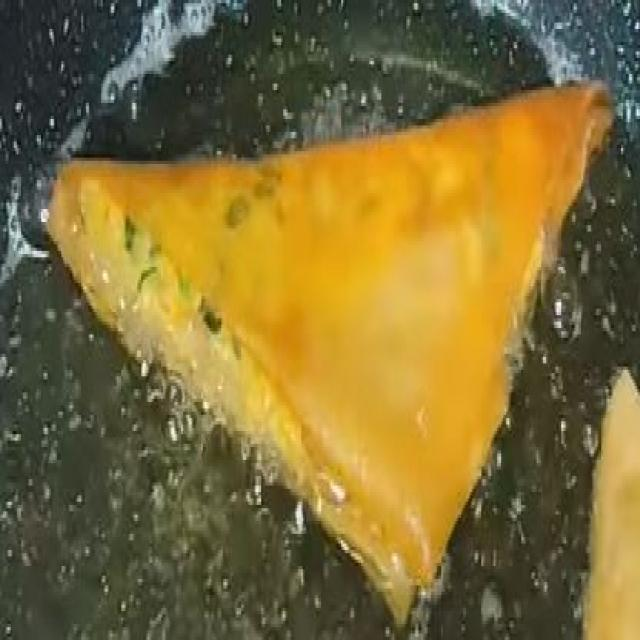brik: (24, 99, 628, 618)
